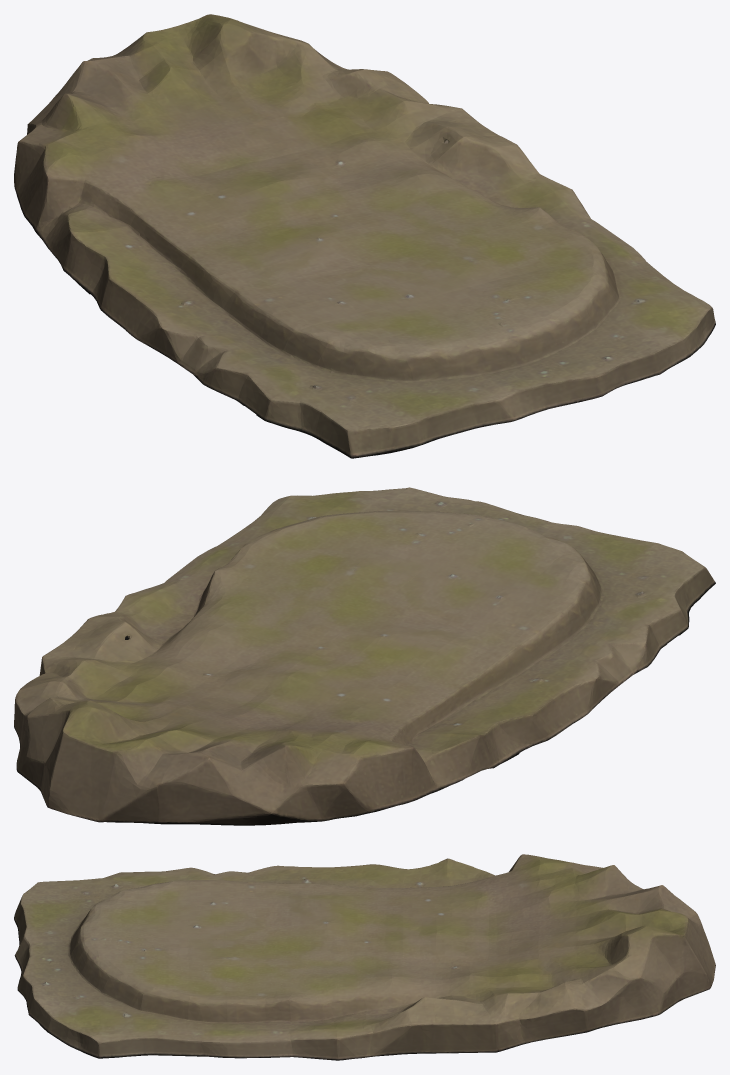
The picture shows the model from 3 angles, top to bottom: view 1: azimuth 30°, elevation 25°; view 2: azimuth 150°, elevation 25°; view 3: azimuth 270°, elevation 25°; orthographic projection. The views are drawn at different scales.
Visible parts, largest first — view 1: world; view 2: world; view 3: world.
Part boxes in pixels (x1,y1,x2,y2): world: (14, 14, 715, 458); world: (14, 487, 715, 825); world: (14, 854, 715, 1060).
Bounding box in the file's own units: 0.6094 × 0.1152 × 0.9978.
Materials: 1 (1 with a texture image).
